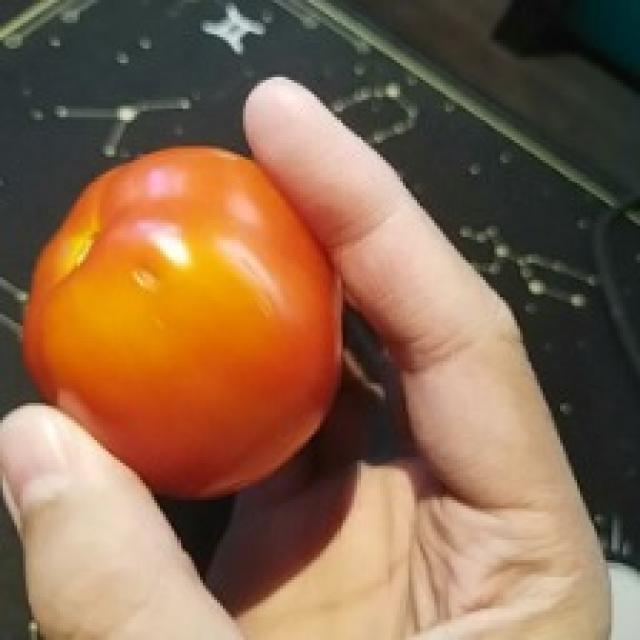tomato: (23, 146, 343, 500)
